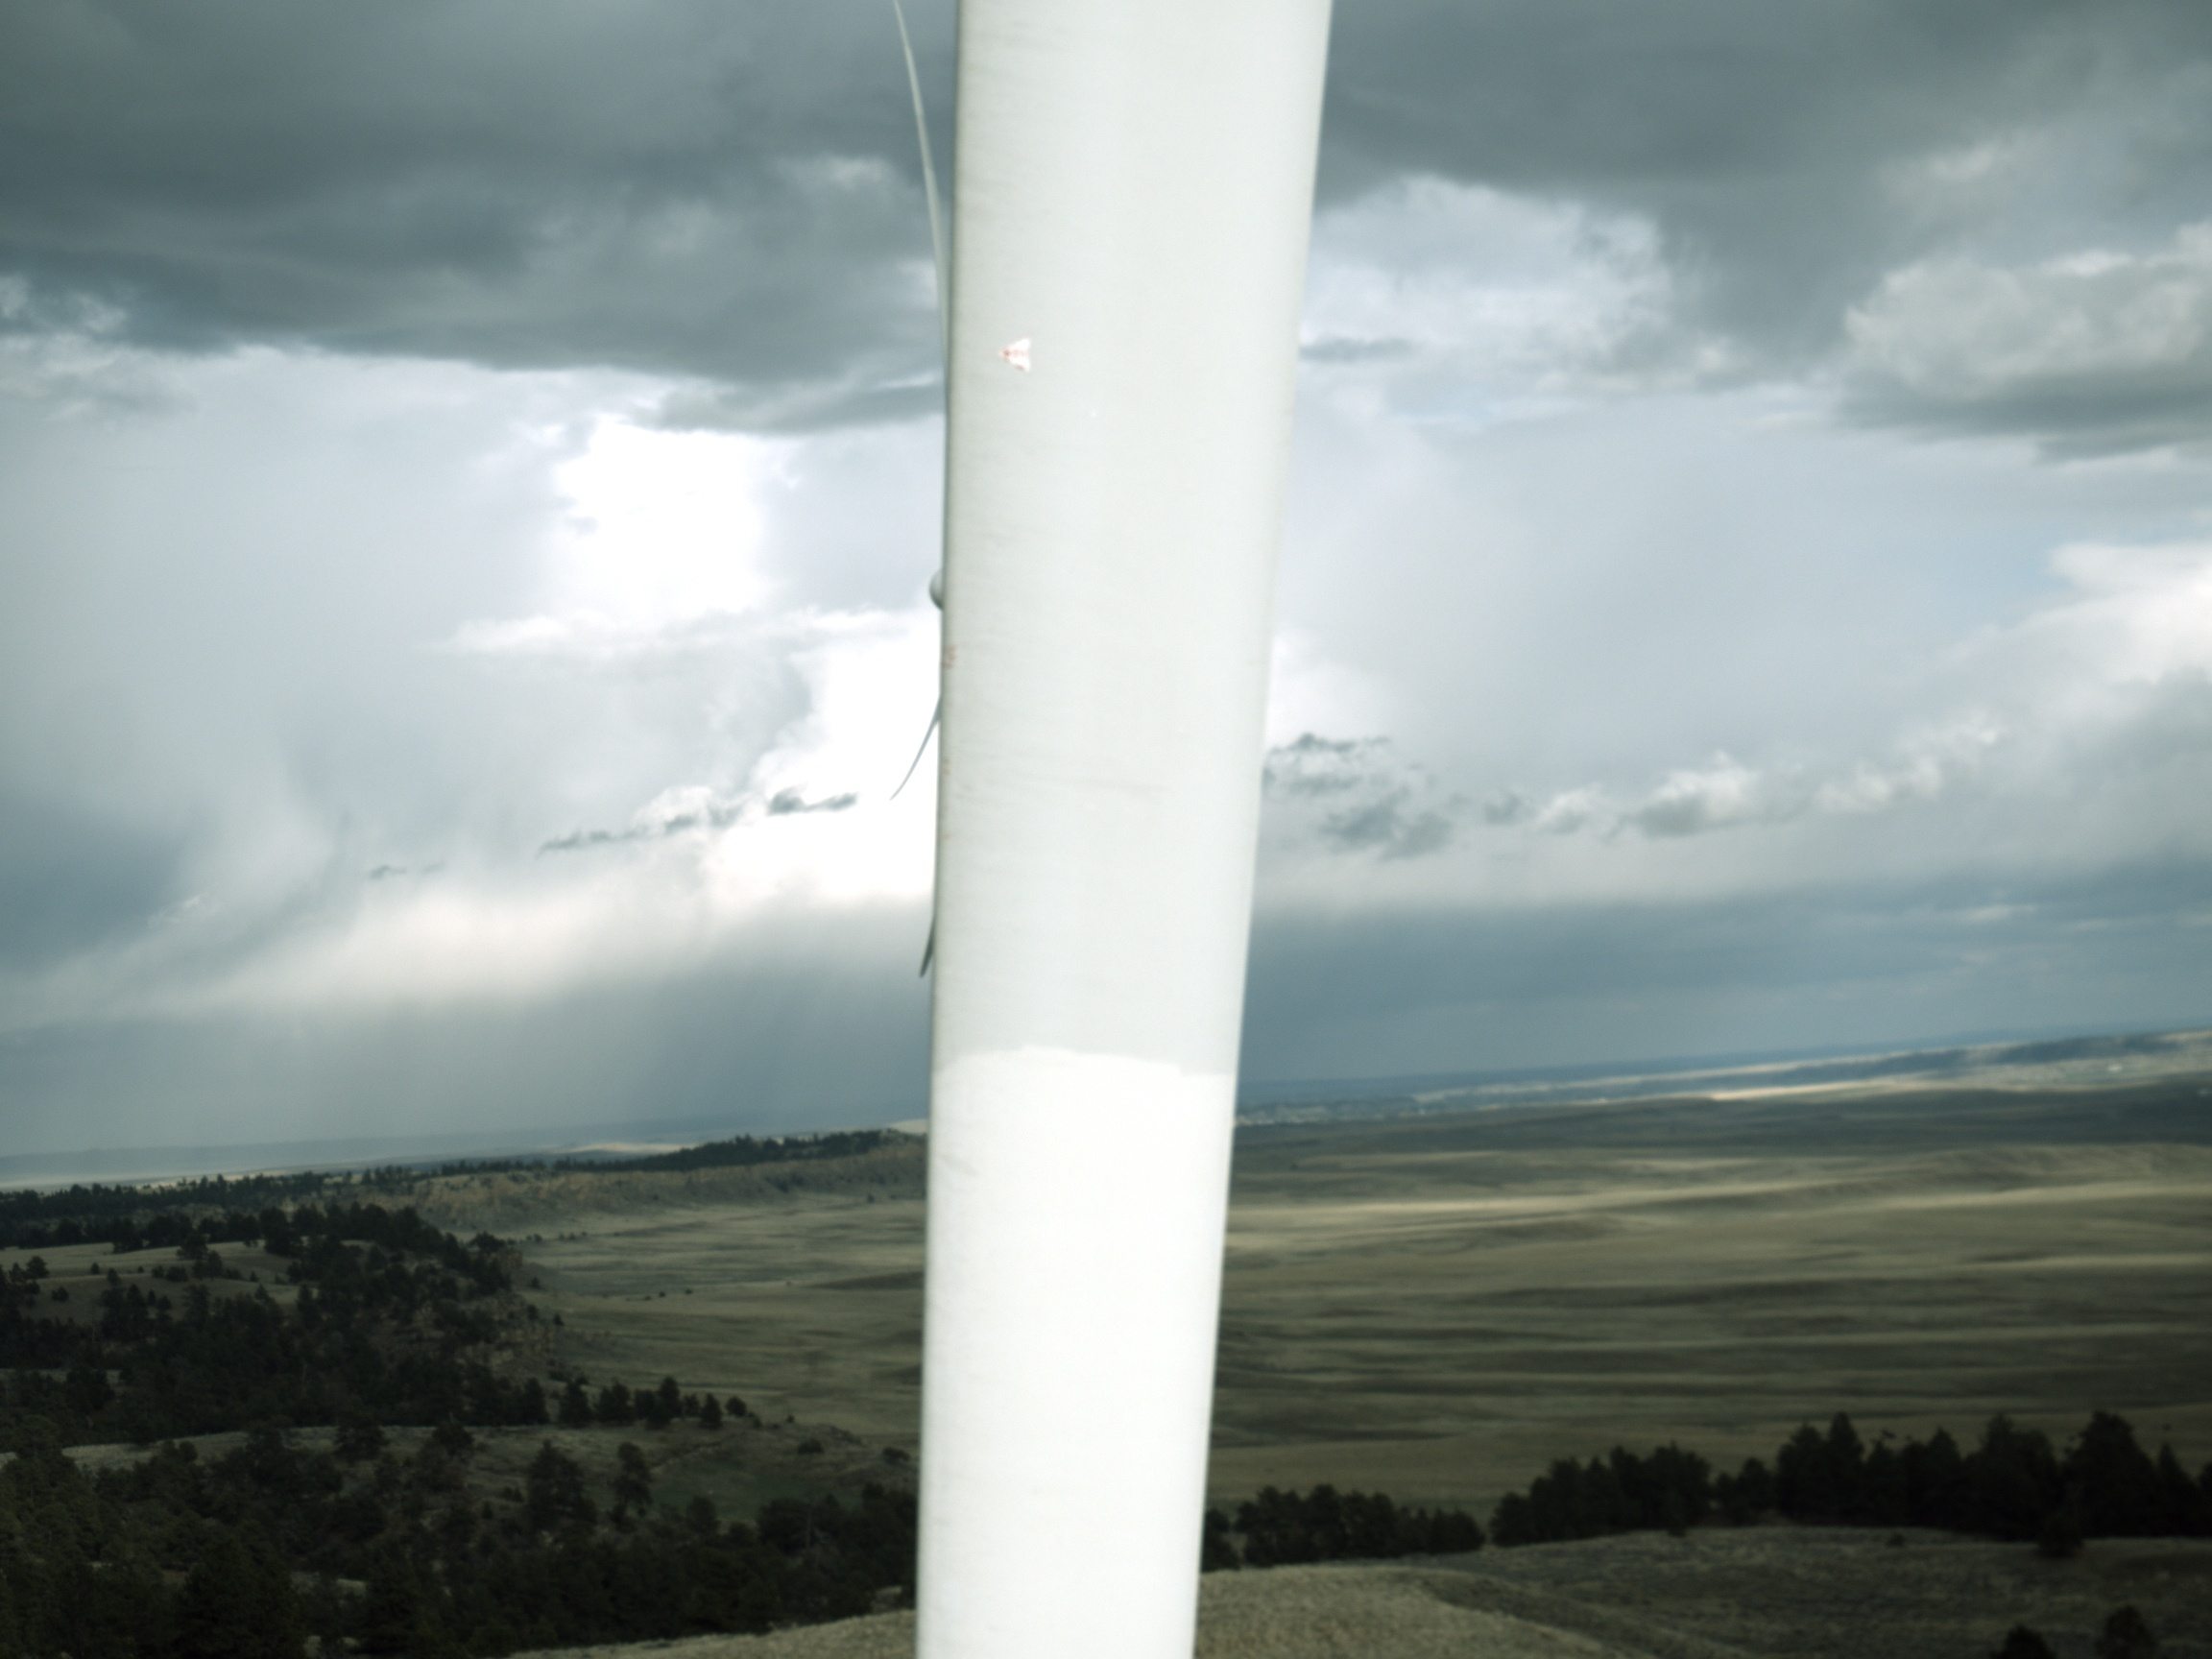chip: (941, 641, 954, 671), (937, 833, 949, 840), (939, 758, 949, 765), (941, 769, 949, 775)
